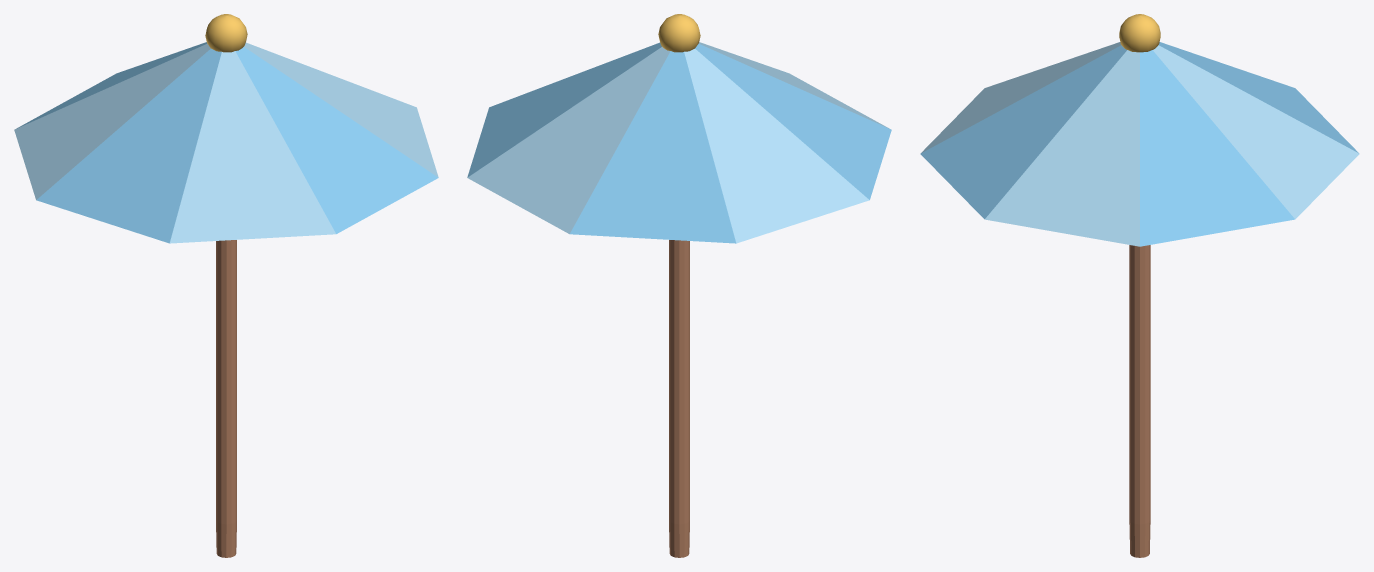
File: umbrella.glb
3 renders of one model, left to right at view 1: azimuth 30°, elevation 25°; view 2: azimuth 150°, elevation 25°; view 3: azimuth 270°, elevation 25°, orthographic.
Visible parts, largest first — view 1: canopy, model; view 2: canopy, model; view 3: canopy, model.
Part boxes in pixels (x1,y1,x2,y2): canopy: (14, 42, 438, 243); model: (205, 14, 247, 557); canopy: (467, 42, 891, 243); model: (658, 14, 700, 557); canopy: (920, 42, 1359, 246); model: (1119, 14, 1160, 557).
Bounding box in the file's own units: 1 × 1.35 × 1.
